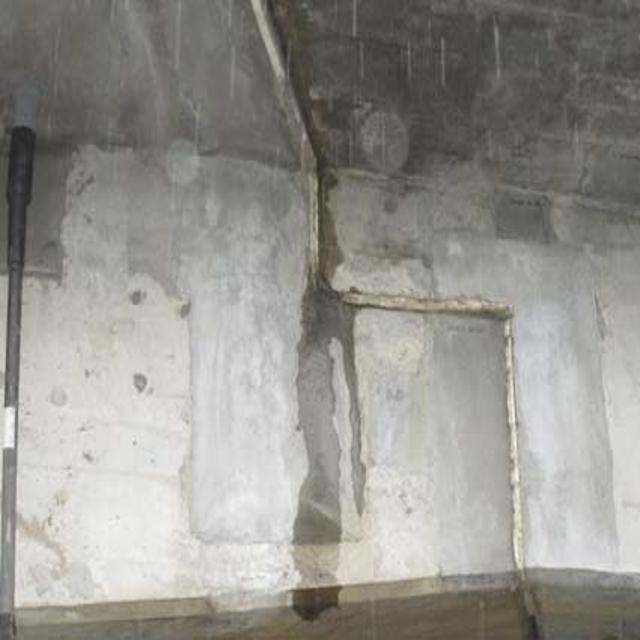leakage: (283, 150, 388, 620)
